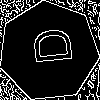D: (23, 26, 73, 67)
